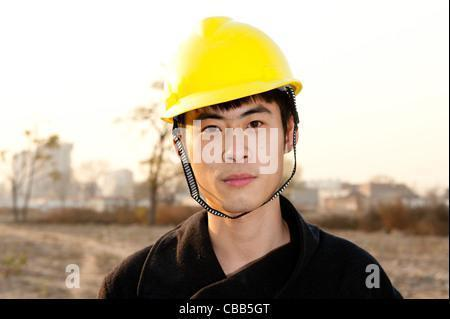helmet: (162, 16, 304, 121)
